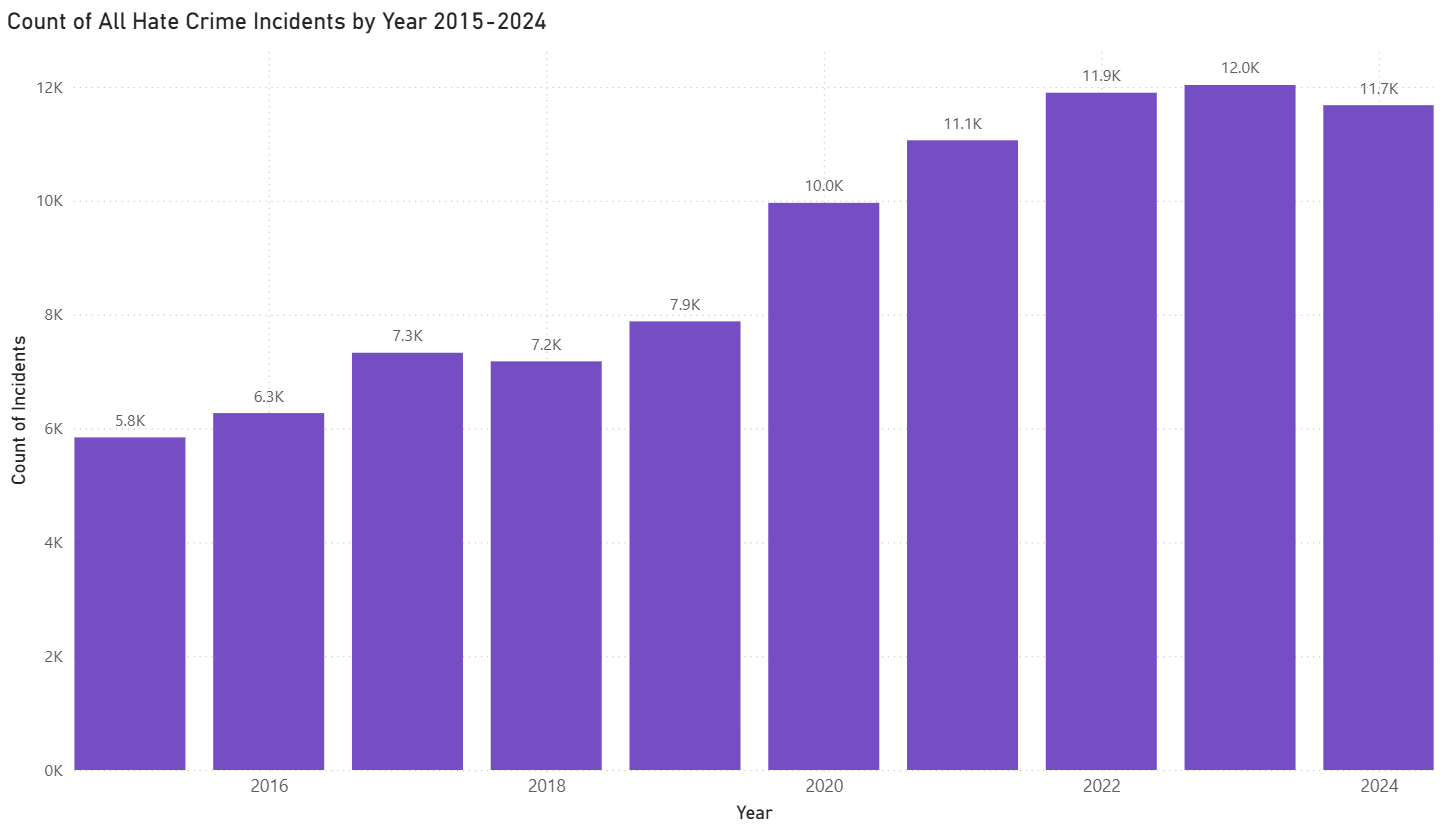

This screenshot's page, from the dashboard's own definition file:
{"tool":"powerbi","page":{"name":"Total Crimes Timeline","canvas":[1280,720],"ordinal":0},"visuals":[{"type":"columnChart","title":"Count of All Hate Crime Incidents by Year 2015-2024","fields":{"Category":["2015-24.data_year"],"Y":["CountNonNull(2015-24.incident_id)"]},"box":[39.7,15.1,1201.9,686],"z":0}]}

Visuals, with their boxes in screenshot pixels (x1, y1, x2, y2), scaled from the page's 1280x720 canvas onto the 1455x829 screenshot:
"Count of All Hate Crime Incidents by Year 2015-2024" columnChart: rect(45, 17, 1411, 807)
